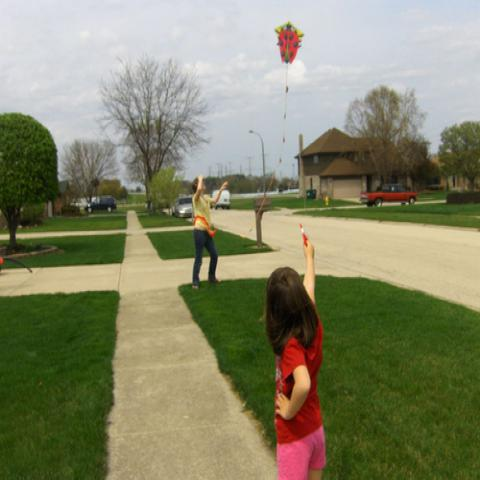car: (359, 183, 419, 209), (83, 195, 118, 213), (211, 189, 231, 210), (173, 197, 192, 218)
